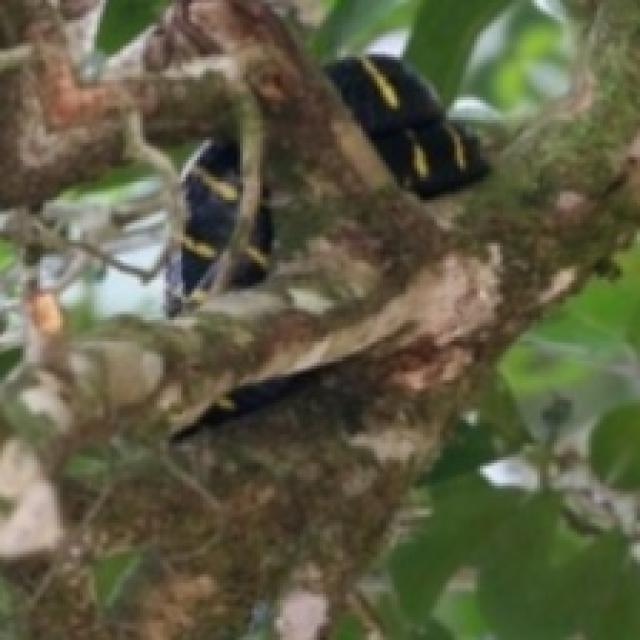mangrove cat snake: (326, 54, 486, 194), (166, 140, 237, 314)
